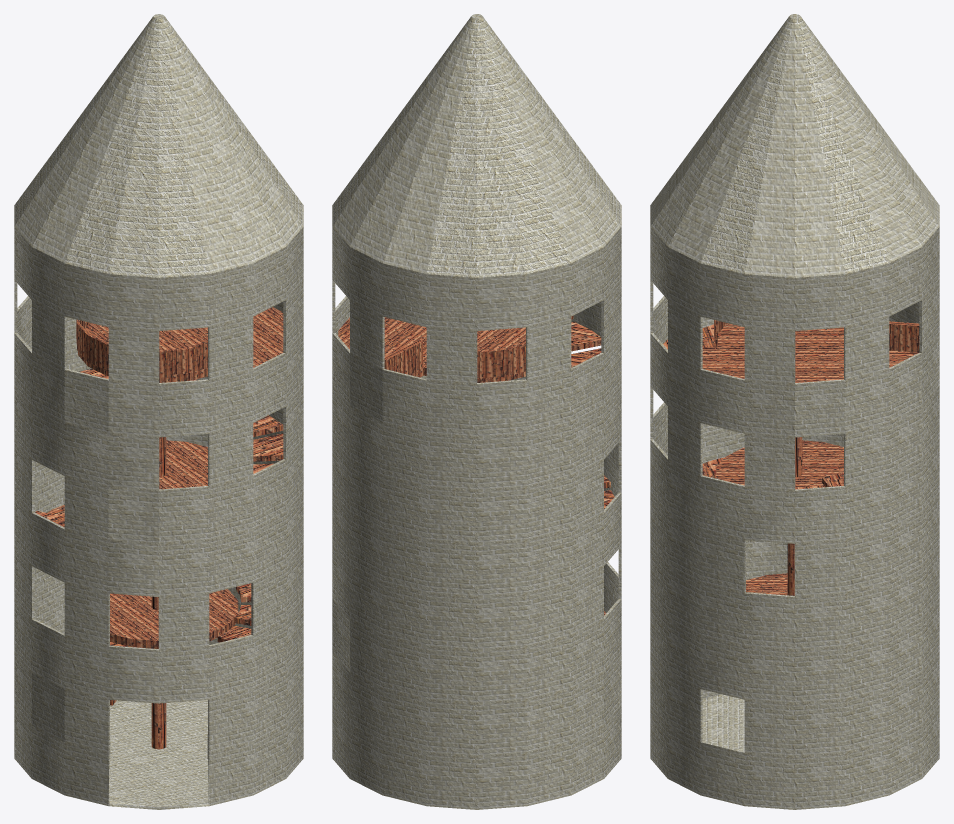
File: Tower.FBX
The picture shows the model from 3 angles, left to right: view 1: azimuth 30°, elevation 25°; view 2: azimuth 150°, elevation 25°; view 3: azimuth 270°, elevation 25°; orthographic projection.
Visible parts, largest first — view 1: Cylinder001, SpiralStair001, Cylinder002, Cylinder004, Tube001, Cylinder003; view 2: Cylinder001, Cylinder004, Tube001, SpiralStair001, Box001; view 3: Cylinder001, Cylinder004, Cylinder003, SpiralStair001, Box001, Cylinder002.
Part boxes in pixels (x1,y1,x2,y2): Cylinder001: [14, 14, 303, 809]; SpiralStair001: [35, 368, 283, 749]; Cylinder002: [110, 589, 238, 648]; Cylinder004: [78, 307, 283, 382]; Tube001: [76, 319, 207, 378]; Cylinder003: [159, 440, 207, 489]; Cylinder001: [332, 14, 621, 809]; Cylinder004: [338, 317, 525, 382]; Tube001: [477, 343, 525, 378]; SpiralStair001: [571, 315, 614, 615]; Box001: [384, 340, 422, 374]; Cylinder001: [650, 14, 939, 809]; Cylinder004: [702, 323, 918, 382]; Cylinder003: [715, 440, 843, 487]; SpiralStair001: [663, 324, 843, 595]; Box001: [889, 321, 919, 352]; Cylinder002: [746, 573, 787, 595].
Bounding box in the file's own units: 1000 × 2750 × 985.
Materials: 2 (2 with a texture image).
